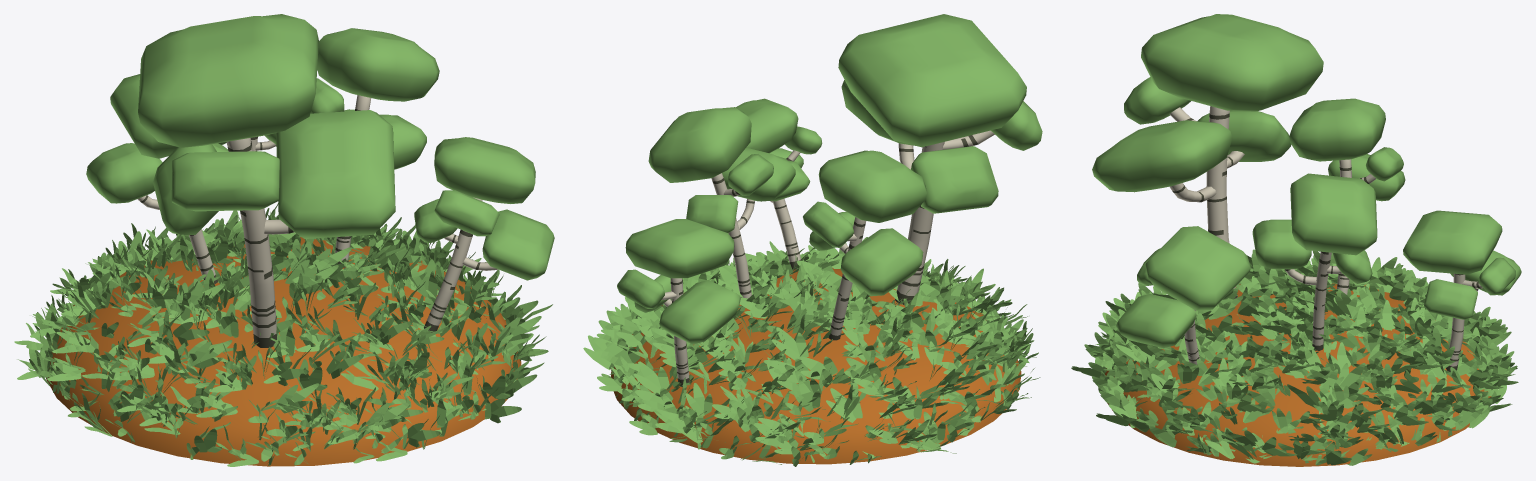
3 views of the same model, side by side, from view 1: azimuth 30°, elevation 25°; view 2: azimuth 150°, elevation 25°; view 3: azimuth 270°, elevation 25° (orthographic). The views are drawn at different scales.
Parts seen in each view (by area): view 1: Sphere, Cube.026, Cube.028, Cube.006, Cube.027, Cube.021, Cube.025, Cube.023, Cube.013, Cube.029, Cube.011, Cube.022 (+8 smaller); view 2: Sphere, Cube.026, Cube.011, Cube.006, Cube.016, Cube.029, Cube.013, Cube.018, Cube.025, Cube.021, Cube.009, Cube.008 (+17 smaller); view 3: Cube.026, Sphere, Cube.028, Cube.006, Cube.021, Cube.016, Cube.011, Cube.023, Cube.025, Cube.029, Cube.008, Cube.027 (+9 smaller).
Part boxes in pixels (box(x1,y1,x2,y2)): Sphere: box(46, 237, 521, 466); Cube.026: box(138, 14, 318, 147); Cube.028: box(276, 110, 395, 238); Cube.006: box(317, 28, 439, 101); Cube.027: box(171, 151, 279, 211); Cube.021: box(434, 137, 535, 203); Cube.025: box(226, 138, 294, 347); Cube.023: box(482, 209, 554, 280); Cube.013: box(86, 143, 162, 203); Cube.029: box(153, 144, 218, 234); Cube.011: box(110, 74, 177, 158); Cube.022: box(434, 190, 499, 236); Sphere: box(611, 267, 1021, 464); Cube.026: box(838, 14, 1026, 147); Cube.011: box(818, 150, 926, 222); Cube.006: box(648, 107, 751, 182); Cube.016: box(625, 219, 734, 278); Cube.029: box(911, 146, 998, 213); Cube.013: box(840, 228, 923, 296); Cube.018: box(659, 280, 740, 344); Cube.025: box(895, 130, 994, 304); Cube.021: box(736, 98, 798, 153); Cube.009: box(686, 195, 738, 233); Cube.008: box(722, 148, 795, 201); Cube.026: box(1141, 14, 1323, 111); Sphere: box(1105, 283, 1491, 466); Cube.028: box(1092, 120, 1232, 192); Cube.006: box(1290, 173, 1377, 255); Cube.021: box(1145, 226, 1250, 310); Cube.016: box(1403, 210, 1502, 274); Cube.011: box(1289, 98, 1385, 161); Cube.023: box(1116, 294, 1196, 348); Cube.025: box(1169, 106, 1244, 298); Cube.029: box(1197, 110, 1291, 161); Cube.008: box(1252, 219, 1311, 269); Cube.027: box(1124, 77, 1190, 124).
Bounding box in the file's own units: 8.63 × 7.01 × 8.85.
